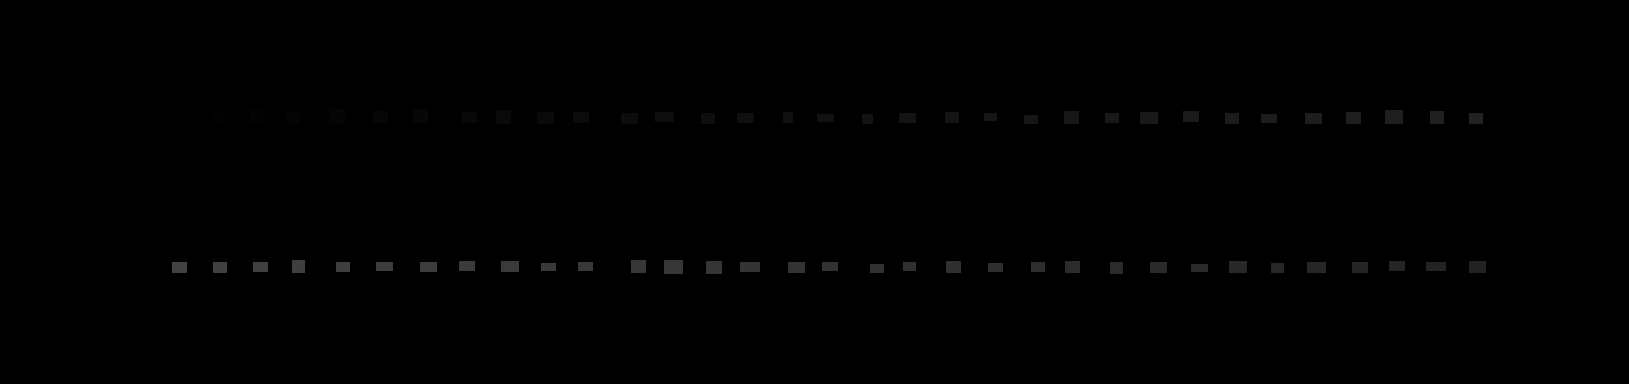light: (664, 260, 683, 274), (1385, 110, 1403, 124), (329, 109, 345, 124), (1229, 260, 1247, 273), (740, 262, 760, 272), (1140, 112, 1158, 124), (1307, 262, 1326, 273), (501, 260, 519, 272), (413, 109, 428, 124), (496, 110, 511, 124), (706, 260, 722, 274), (1469, 260, 1486, 273), (655, 112, 674, 122), (787, 262, 805, 273), (250, 110, 265, 124), (1064, 111, 1079, 124), (1065, 260, 1080, 273), (631, 260, 646, 273), (537, 112, 554, 124), (1352, 262, 1368, 273), (1150, 262, 1167, 273), (1426, 262, 1446, 271), (737, 113, 754, 124), (899, 113, 916, 124), (420, 262, 437, 272), (373, 111, 388, 124), (1430, 111, 1444, 124), (946, 260, 961, 273), (573, 112, 589, 124), (1183, 111, 1199, 122), (621, 113, 638, 124), (1305, 113, 1321, 124), (1110, 262, 1123, 274), (292, 260, 305, 273), (462, 112, 477, 124), (1346, 112, 1361, 124), (172, 262, 187, 273), (1389, 260, 1405, 271), (459, 260, 475, 271), (822, 262, 838, 271), (376, 262, 393, 271), (212, 112, 225, 124), (287, 112, 300, 124), (945, 112, 959, 124), (213, 262, 226, 273), (1225, 113, 1239, 124), (1031, 262, 1045, 272), (336, 262, 350, 272), (253, 262, 268, 272), (817, 114, 834, 122), (1191, 264, 1208, 272), (1261, 114, 1277, 124), (578, 262, 593, 271), (701, 113, 715, 124), (1105, 113, 1119, 124), (1469, 113, 1483, 124), (1271, 263, 1284, 273), (988, 263, 1003, 272), (870, 264, 884, 273), (170, 112, 183, 122), (903, 262, 916, 271), (541, 263, 556, 271), (984, 113, 997, 121), (1024, 115, 1038, 124), (783, 112, 793, 124), (862, 114, 873, 124)
